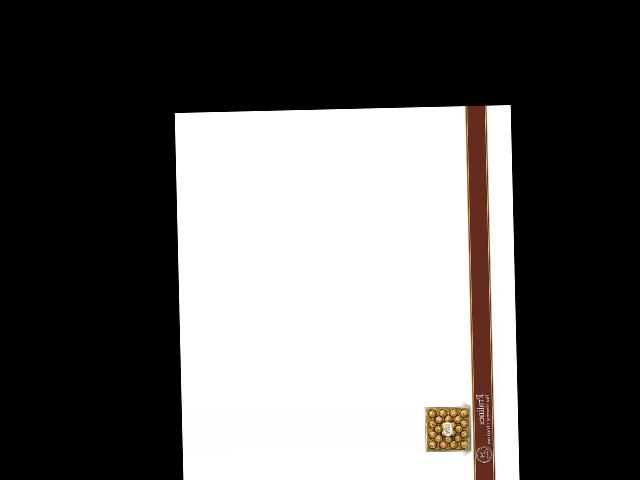chocolate: (421, 404, 473, 455)
